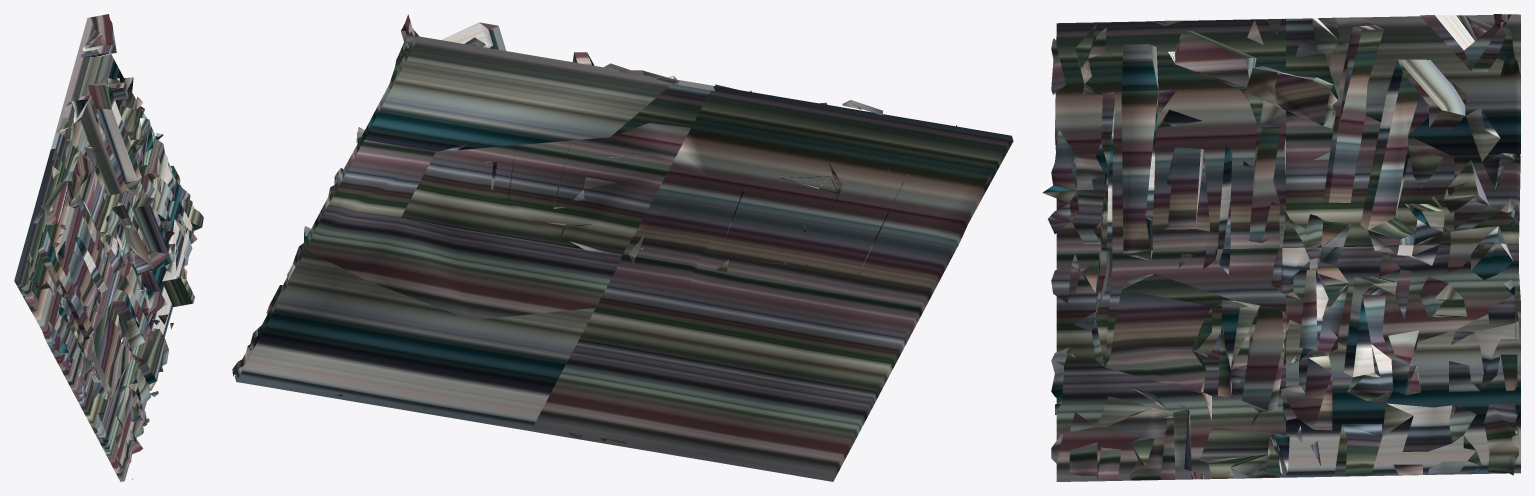
3 views of the same model, side by side, from view 1: azimuth 30°, elevation 25°; view 2: azimuth 150°, elevation 25°; view 3: azimuth 270°, elevation 25° (orthographic). The views are drawn at different scales.
Visible parts, largest first — view 1: node_3043627270436250_mesh0; view 2: node_3043627270436250_mesh0; view 3: node_3043627270436250_mesh0.
Part boxes in pixels (x1,y1,x2,y2): node_3043627270436250_mesh0: (14,14,203,481); node_3043627270436250_mesh0: (232,14,1013,481); node_3043627270436250_mesh0: (1042,14,1520,481).
Bounding box in the file's own units: 587 × 592 × 455.
Materials: 1 (1 with a texture image).
